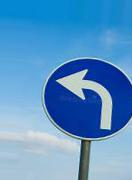left: (41, 56, 127, 141)
